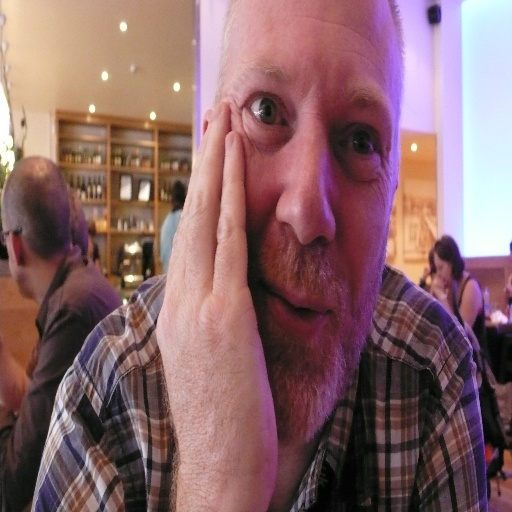hand: (143, 91, 297, 490), (429, 271, 446, 302)
